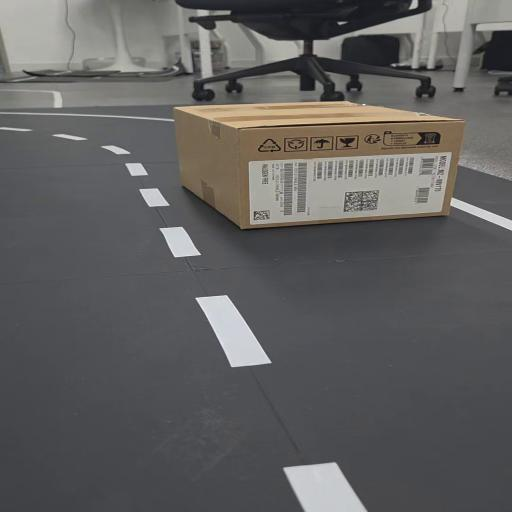Box: (168, 101, 467, 233)
